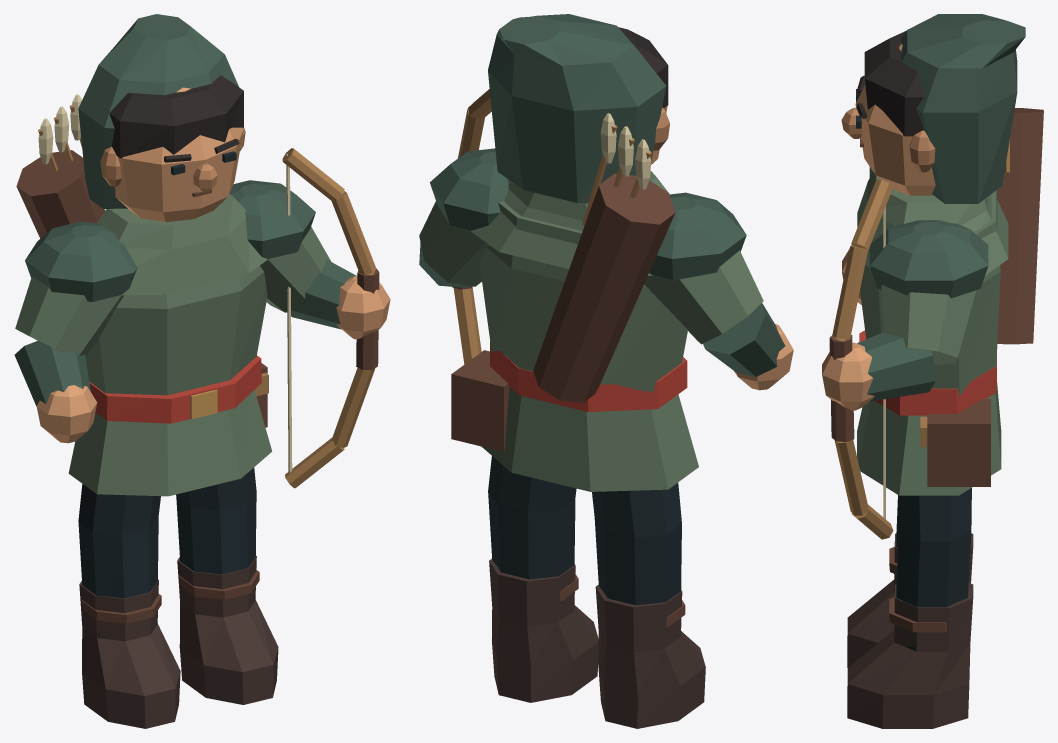
Rendered from hero-bow.glb.
3 views of the same model, side by side, from view 1: azimuth 30°, elevation 25°; view 2: azimuth 150°, elevation 25°; view 3: azimuth 270°, elevation 25° (orthographic). The views are drawn at different scales.
Visible parts, largest first — view 1: body, arm_l, arm_r; view 2: body, arm_r, arm_l; view 3: body, arm_l.
Part boxes in pixels (left/top/right/bottom): body: left=16, top=14, right=278, bottom=728; arm_l: left=229, top=148, right=390, bottom=488; arm_r: left=14, top=221, right=137, bottom=443; body: left=451, top=14, right=705, bottom=728; arm_r: left=644, top=192, right=793, bottom=390; arm_l: left=419, top=89, right=508, bottom=364; body: left=841, top=14, right=1043, bottom=728; arm_l: left=822, top=180, right=988, bottom=539.
Bounding box in the file's own units: 0.987 × 1.78 × 0.5391.
